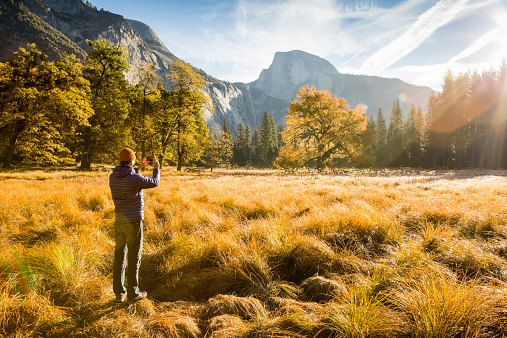em pe: (99, 139, 156, 301)
